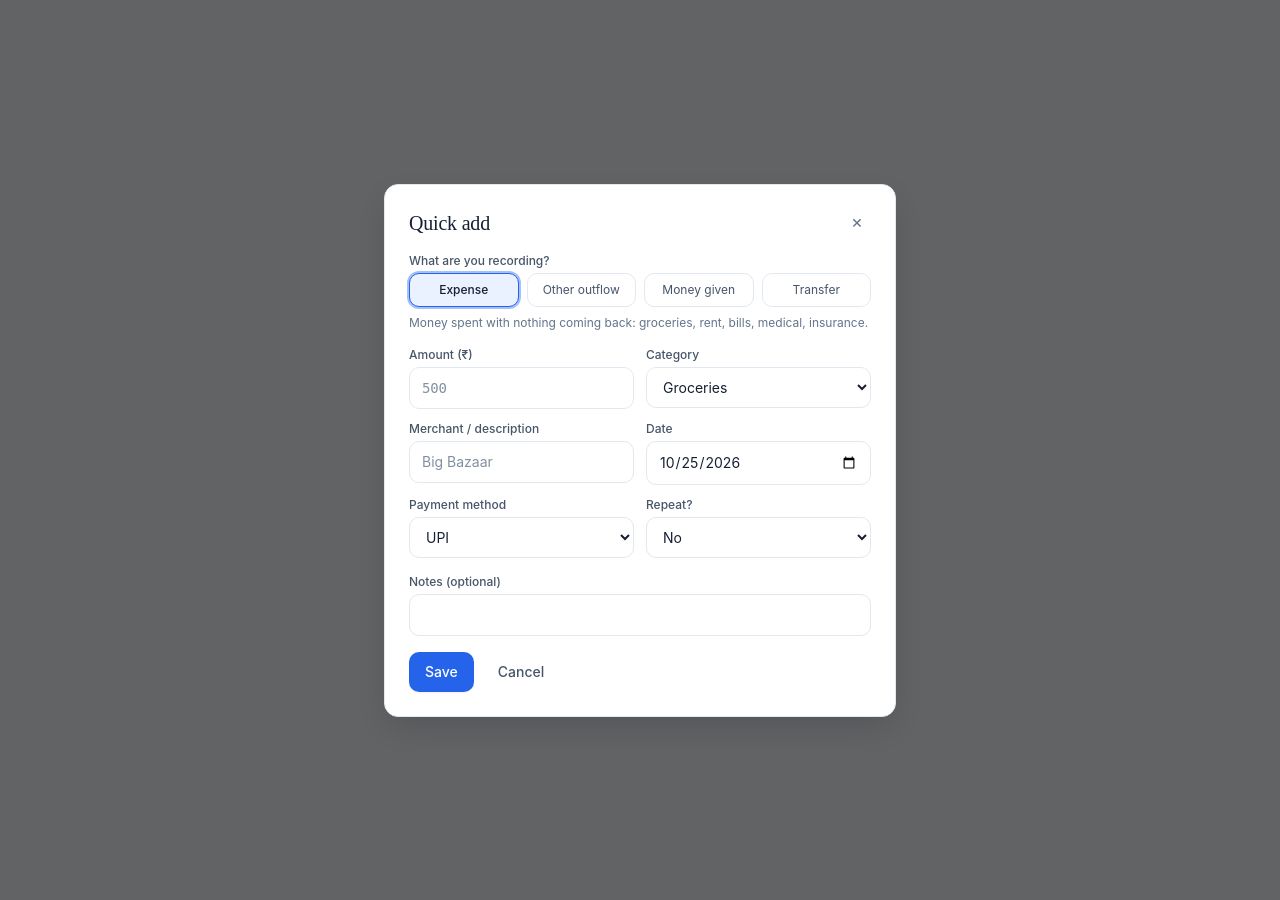
Test case: QuickExpenseDialog › remembers the last-used category for next time
The image size is (1280, 900).
Select "Dining" in the dropdown labelled "Category" at point(758, 387), box [646,366,871,408]
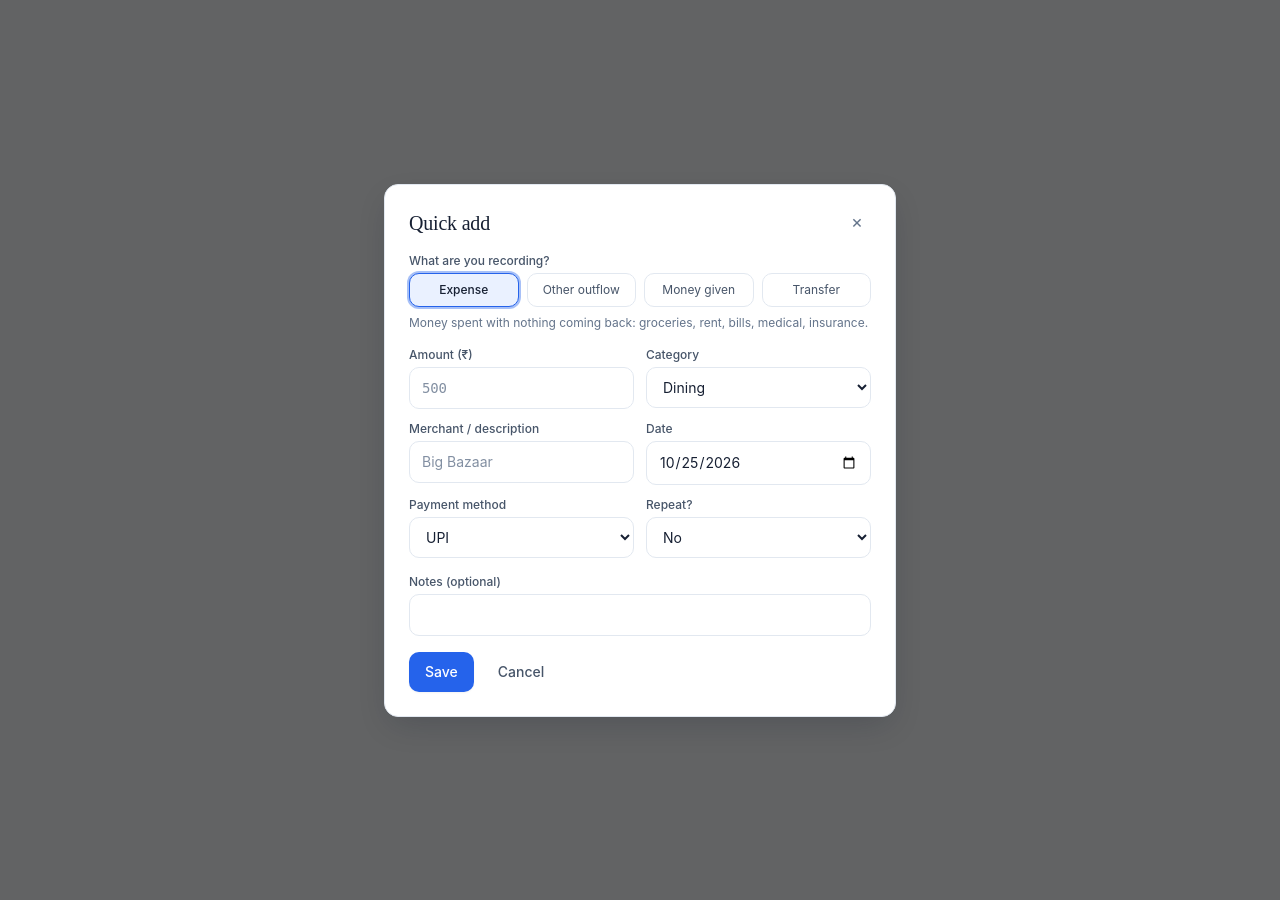
Type "300" into the number field labelled "Amount (₹)" at point(522, 388), box [409,366,634,408]
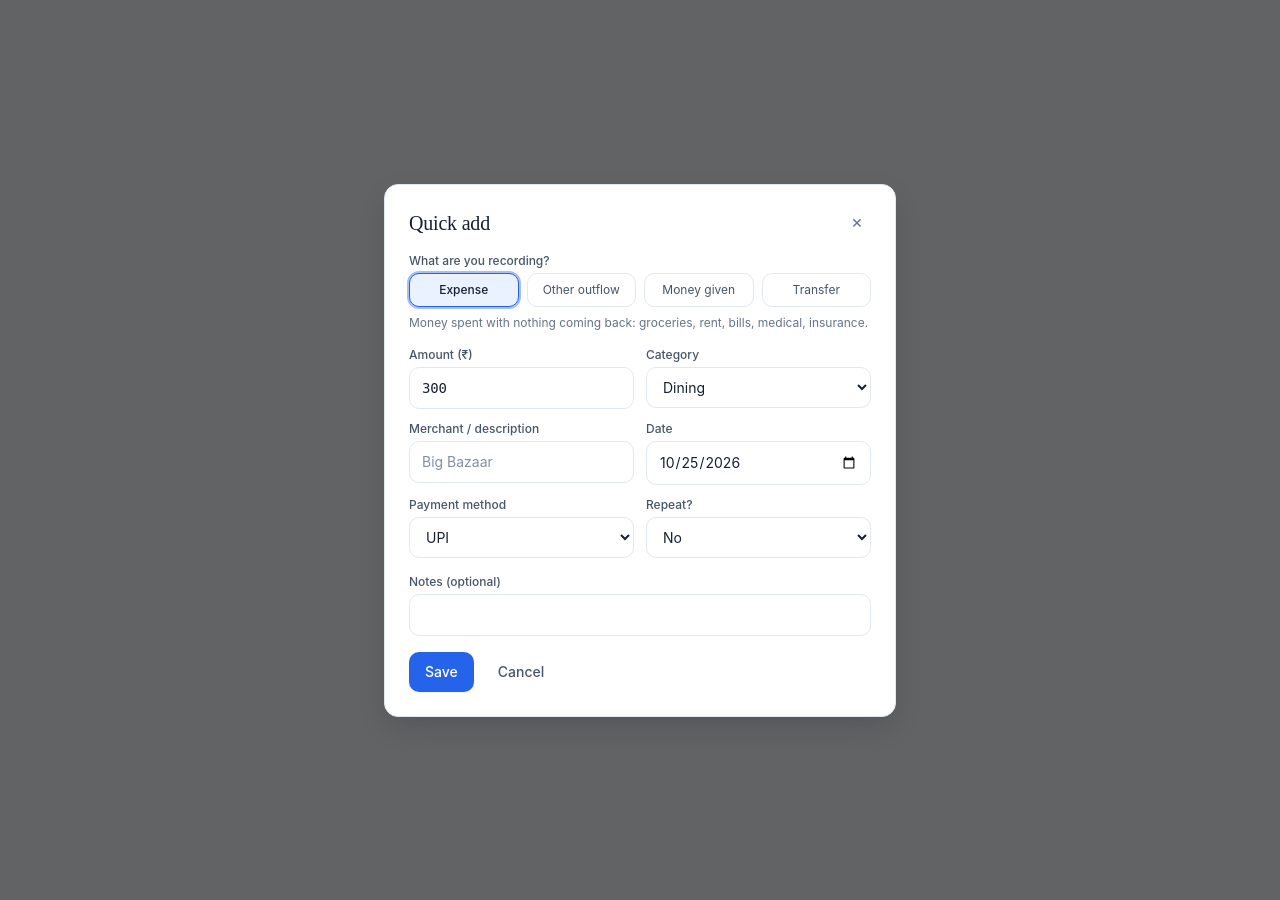
Click the button "Save" at point(441, 672), box [409,652,474,692]
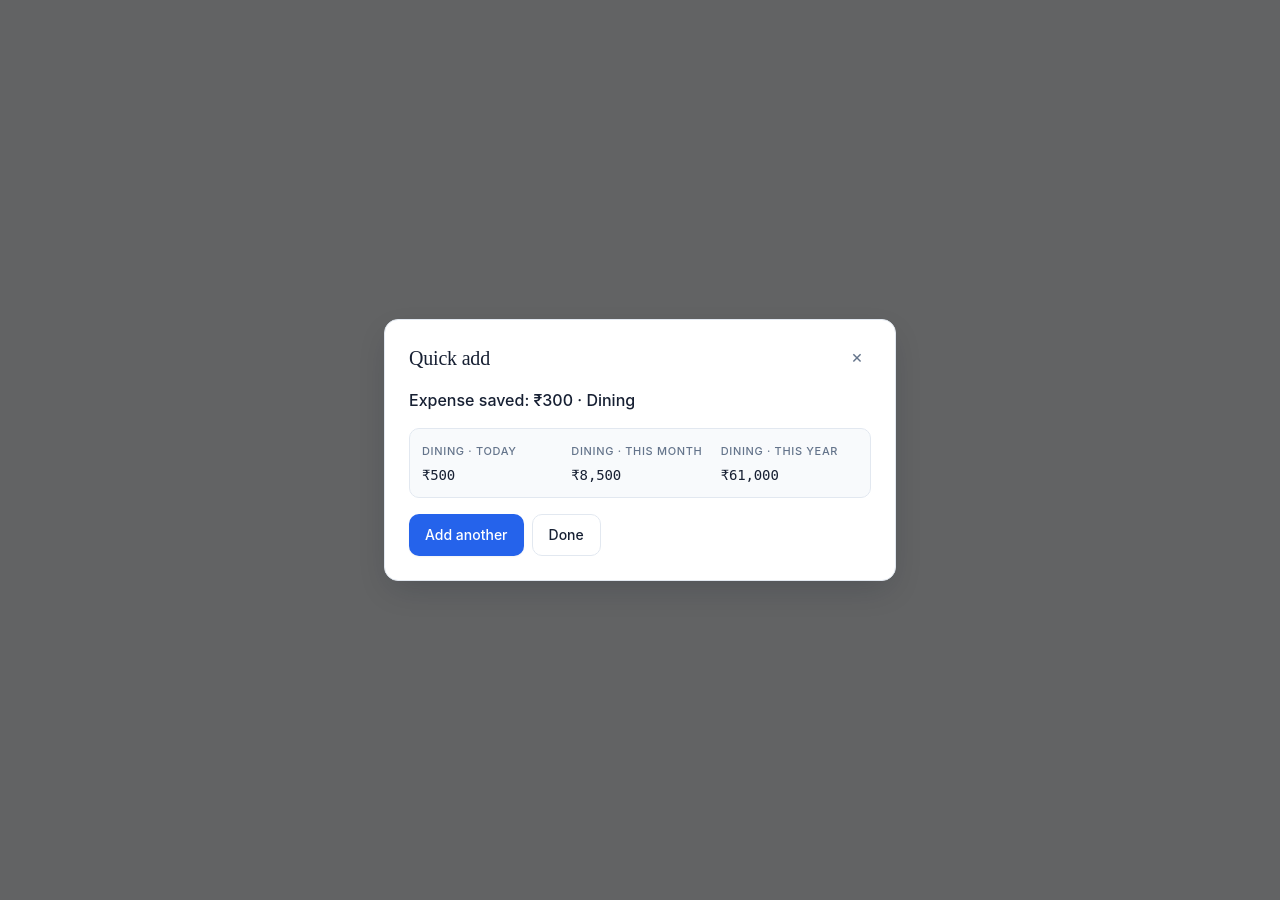
Result: the message is shown at [409,388,871,556]
